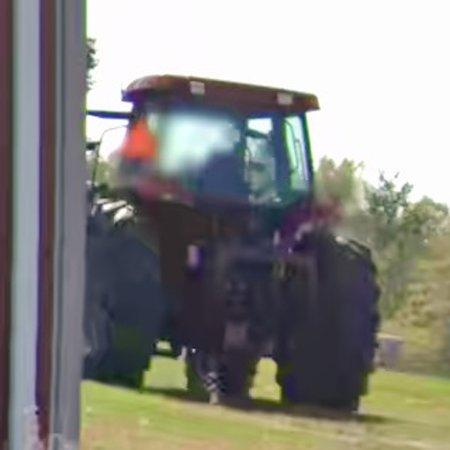tractors: (85, 75, 380, 410)
